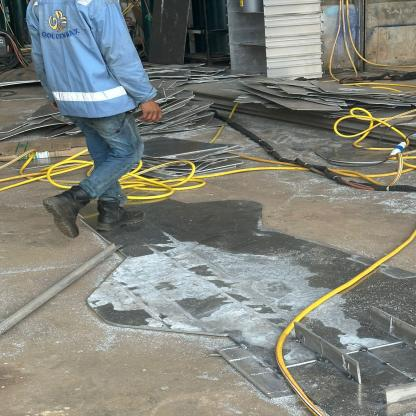bota: (42, 187, 91, 239), (98, 199, 147, 230)
